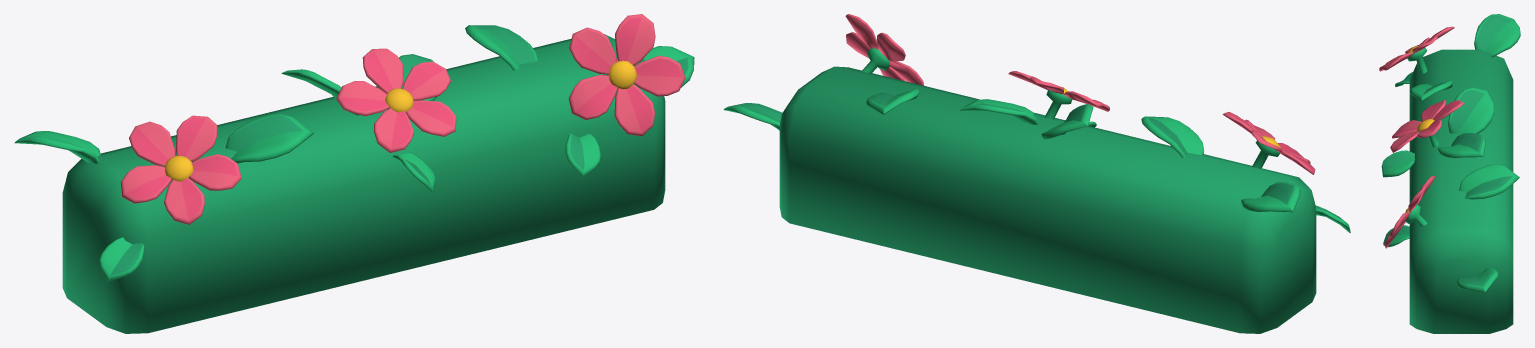
The model's file is WindowBush_Pink.glb.
The picture shows the model from 3 angles, left to right: view 1: azimuth 30°, elevation 25°; view 2: azimuth 150°, elevation 25°; view 3: azimuth 270°, elevation 25°; orthographic projection. The views are drawn at different scales.
Visible parts, largest first — view 1: WindowBush_Pink; view 2: WindowBush_Pink; view 3: WindowBush_Pink.
Part boxes in pixels (<box>): WindowBush_Pink: <box>14,14,694,333</box>; WindowBush_Pink: <box>723,14,1350,333</box>; WindowBush_Pink: <box>1379,14,1520,333</box>.
Bounding box in the file's own units: 0.8234 × 0.2303 × 0.215.
1 material, 1 textured.
